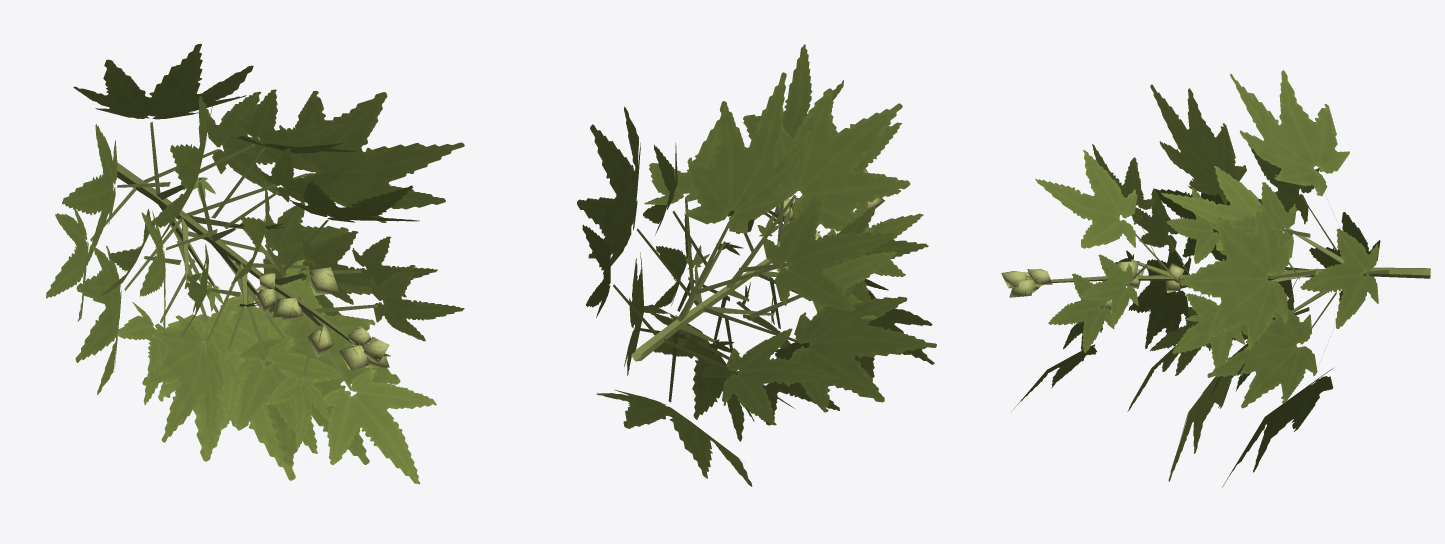
File: p_male_hybrid_preflower_c1_cards.obj
3 renders of one model, left to right at view 1: azimuth 30°, elevation 25°; view 2: azimuth 150°, elevation 25°; view 3: azimuth 270°, elevation 25°, orthographic. The views are drawn at different scales.
Bounding box in the file's own units: 1.42 × 1.56 × 1.4.
Materials: 1 (1 with a texture image).
